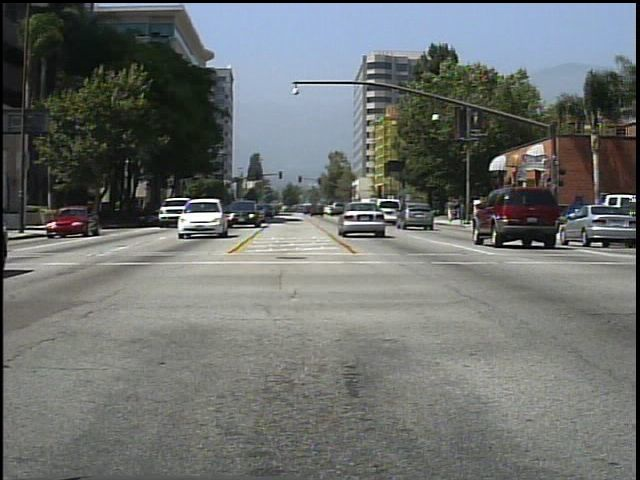person: (482, 195, 502, 229), (445, 195, 458, 224)
